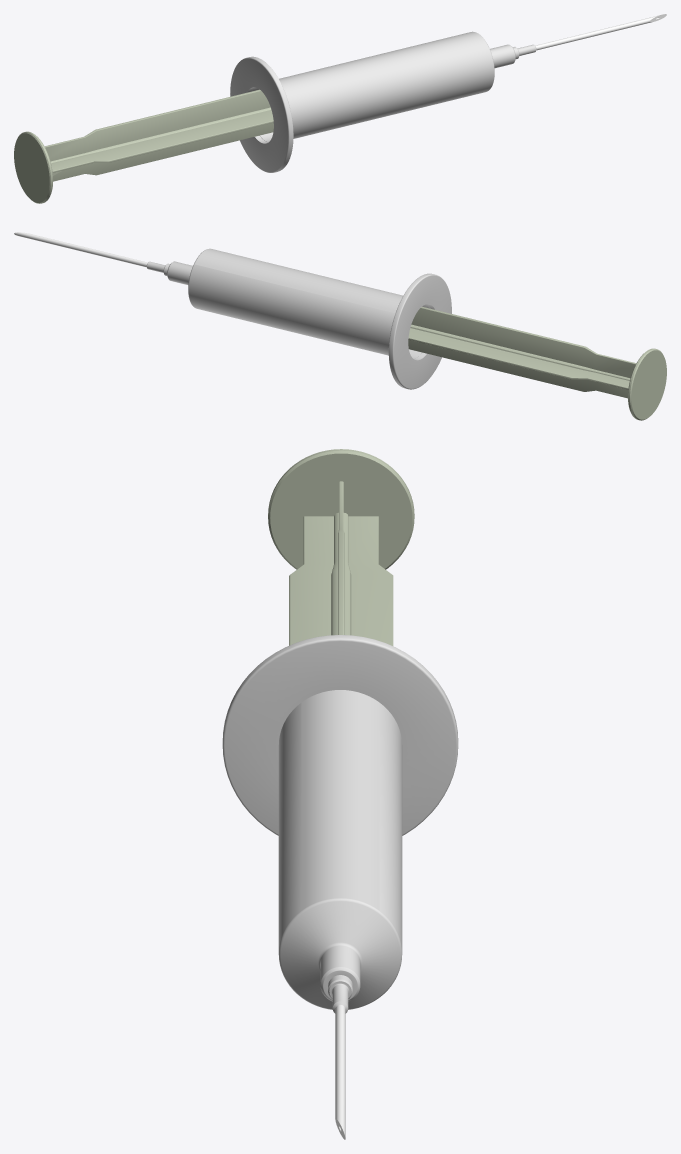
The model's file is smart_medical_syringe.glb.
3 renders of one model, top to bottom at view 1: azimuth 30°, elevation 25°; view 2: azimuth 150°, elevation 25°; view 3: azimuth 270°, elevation 25°, orthographic. The views are drawn at different scales.
Parts seen in each view (by area): view 1: Cylinder, Cube; view 2: Cylinder, Cube; view 3: Cylinder, Cube.
Boxes of the visible parts, bbox=[...] form: Cylinder: bbox=[230, 14, 666, 172]; Cube: bbox=[14, 89, 273, 203]; Cylinder: bbox=[14, 232, 451, 389]; Cube: bbox=[408, 306, 666, 420]; Cylinder: bbox=[222, 635, 458, 1139]; Cube: bbox=[268, 449, 414, 645].
Bounding box in the file's own units: 5.3 × 0.8531 × 0.8531.
